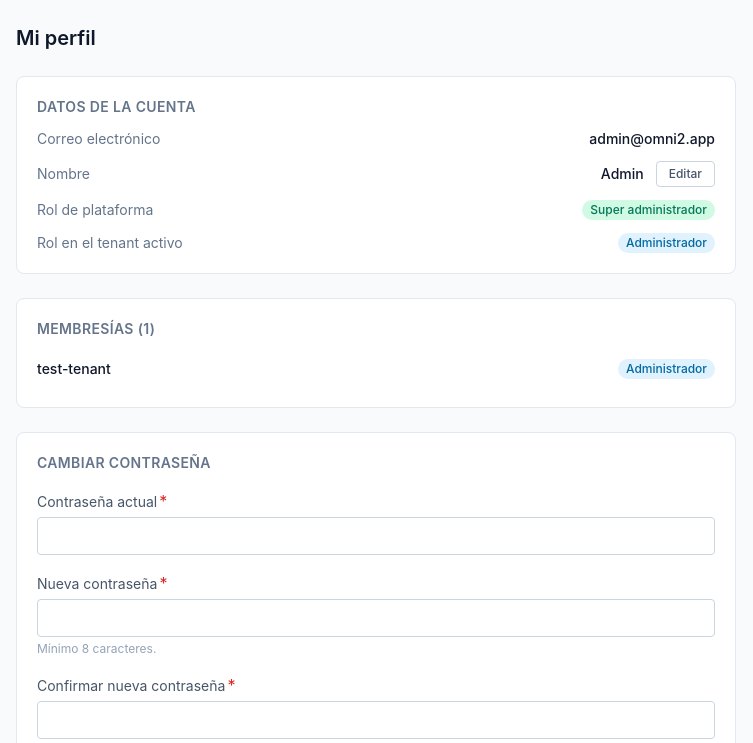
Scenario: ProfileSection › valida que la confirmación coincida con la nueva contraseña
The width and height of the screenshot is (753, 743).
Type "actual123" into the password field labelled "Contraseña actual". click: (376, 536)
box: [37,517,715,555]
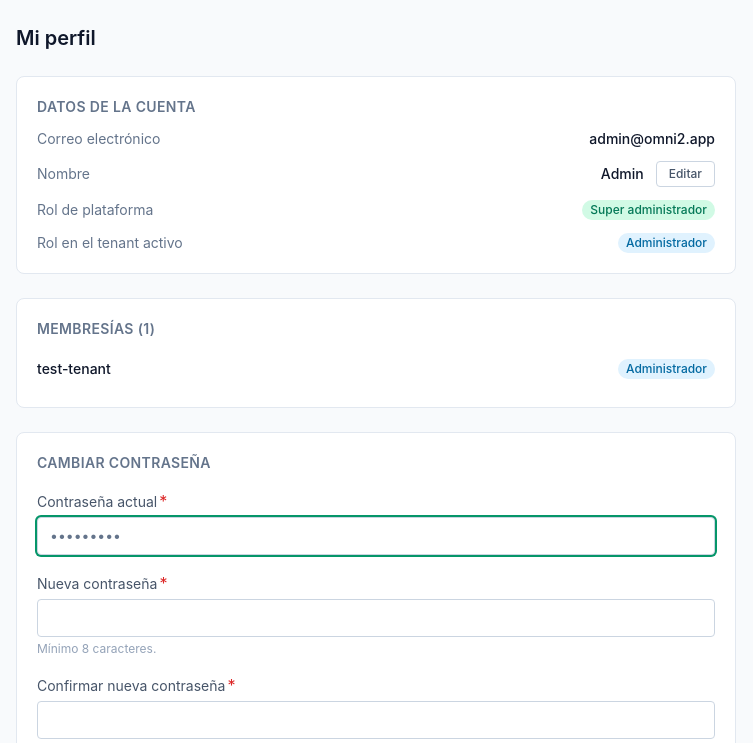
Type "nueva1234" into the password field labelled "Nueva contraseña". click: (376, 618)
box: [37,599,715,637]
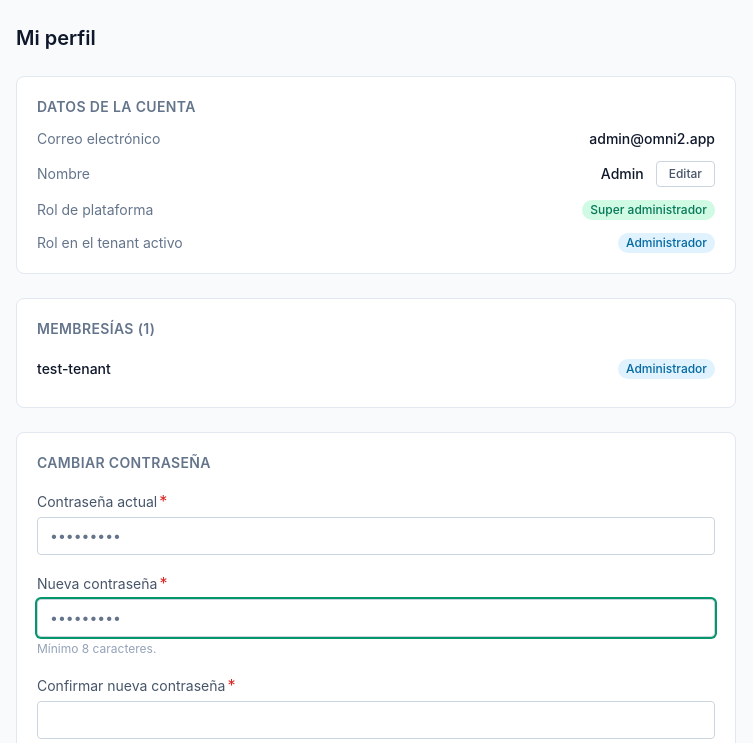
Type "distinta" into the password field labelled "Confirmar nueva contraseña". click: (376, 720)
box: [37,701,715,739]
(page scrolled)
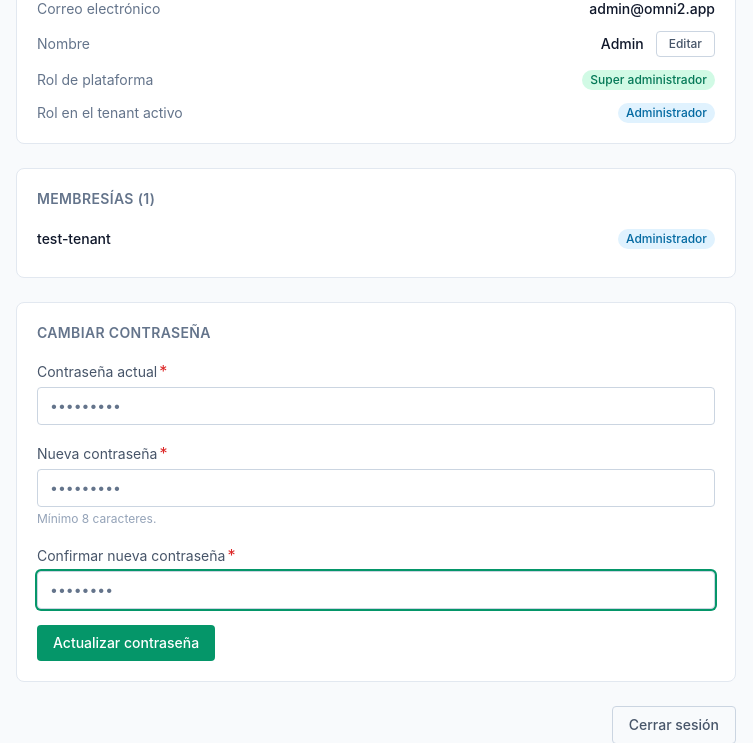
Click the button "Actualizar contraseña". click: (126, 643)
box: [37,625,215,661]
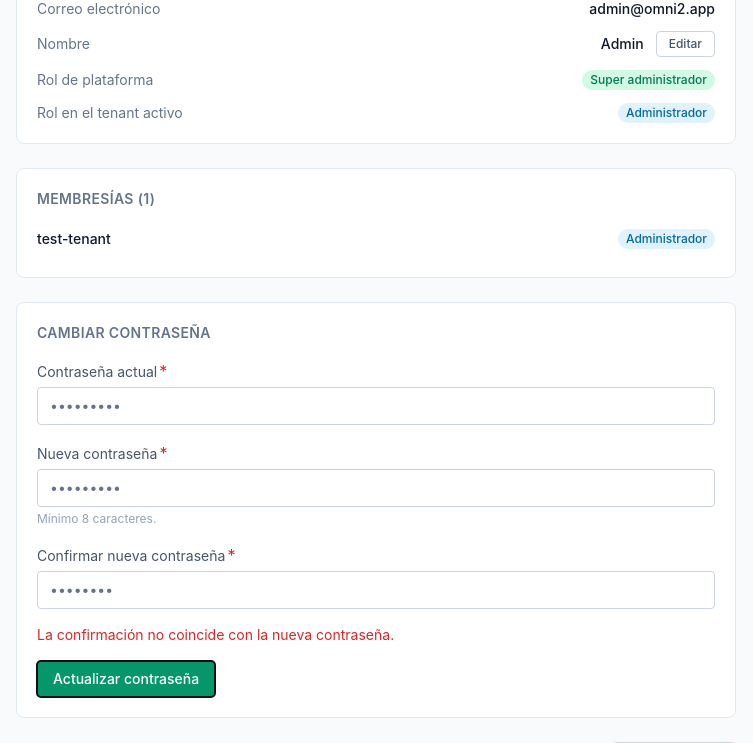
expect the message reads "La confirmación no coincide con la nueva contraseña.": met, box [37,626,394,643]
